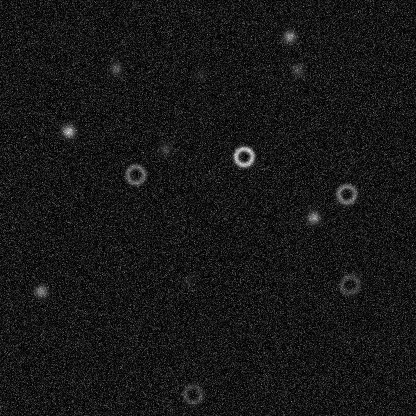Ring: (123, 162, 147, 186), (334, 182, 358, 206), (180, 382, 204, 406), (231, 144, 255, 168), (337, 272, 361, 296)
Spot: (192, 66, 208, 82), (305, 209, 321, 225), (32, 283, 48, 299), (107, 60, 123, 76), (281, 28, 297, 44), (180, 273, 196, 289), (157, 140, 173, 156), (289, 61, 305, 77), (60, 123, 76, 139)
